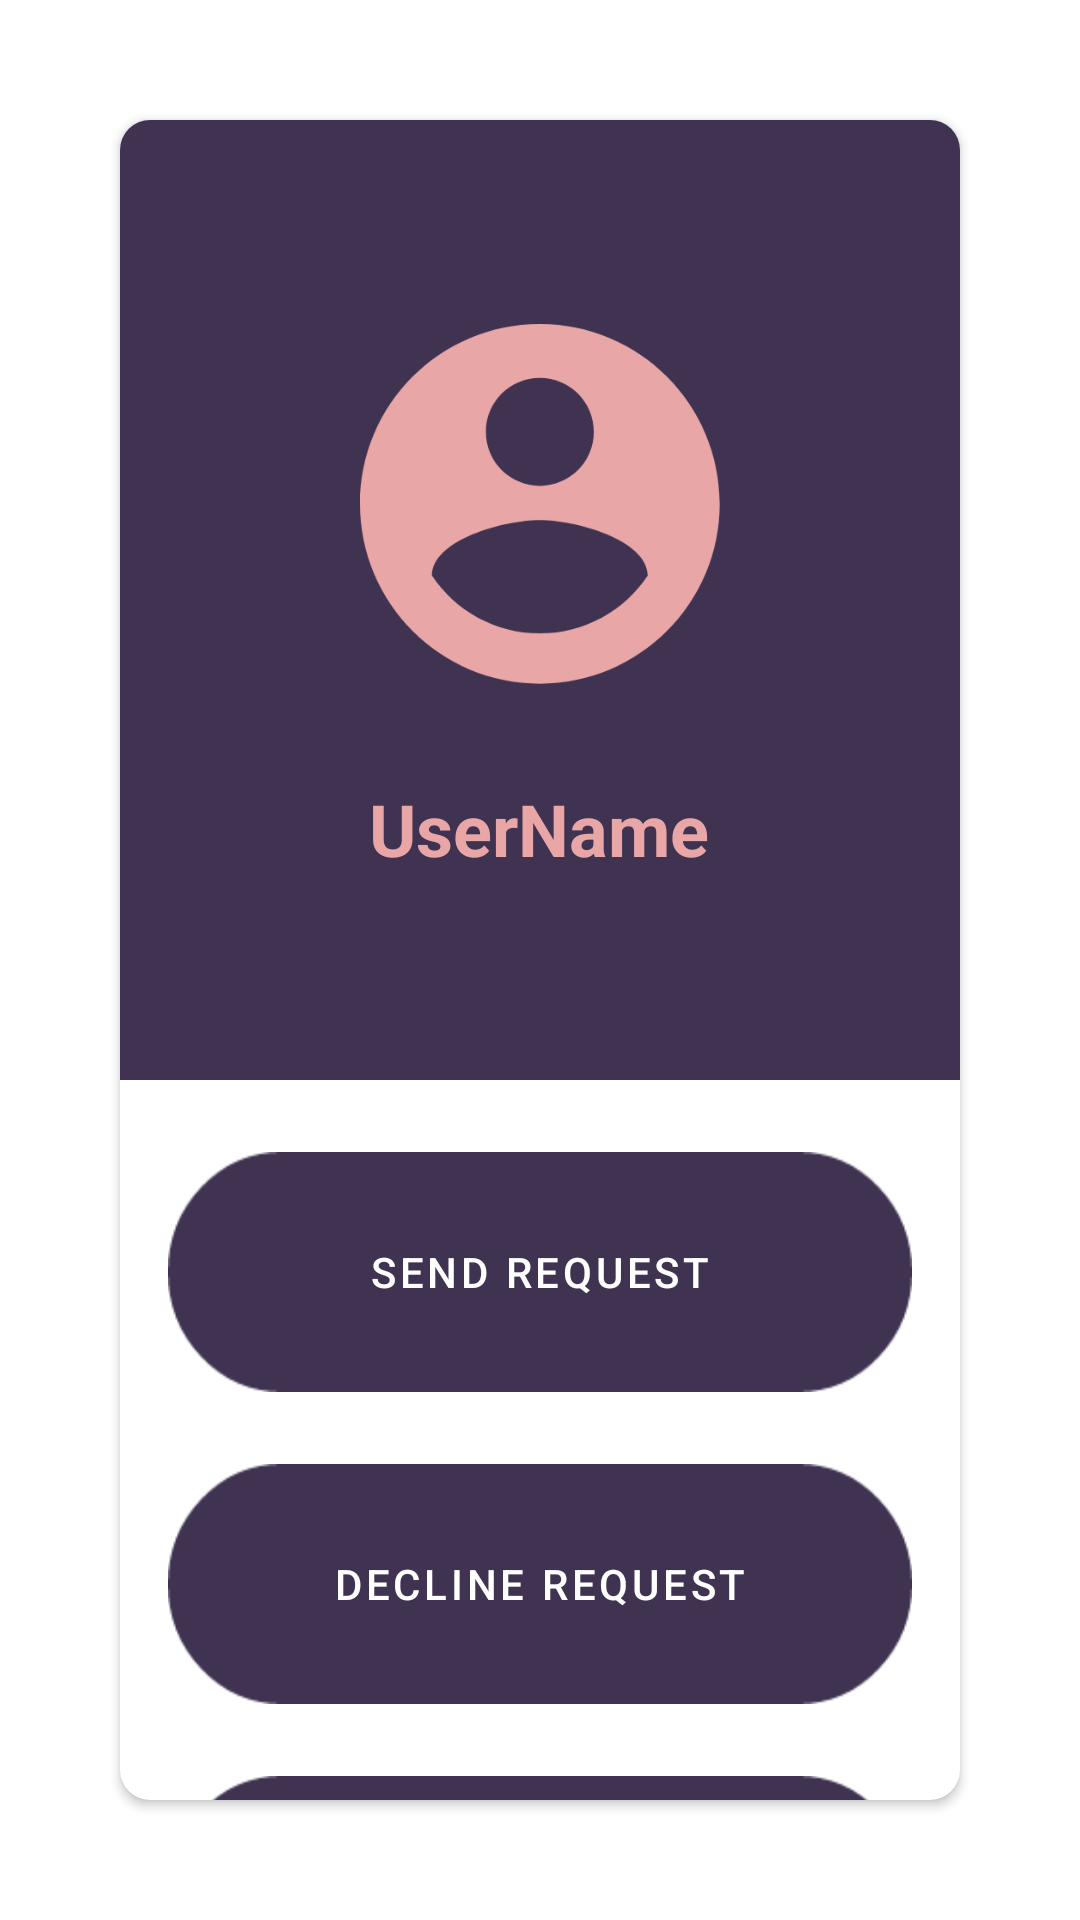

Where to tap for icons on this 1080px×1920px app screen, as (x=x, y=y):
account circle: (x=540, y=504)
